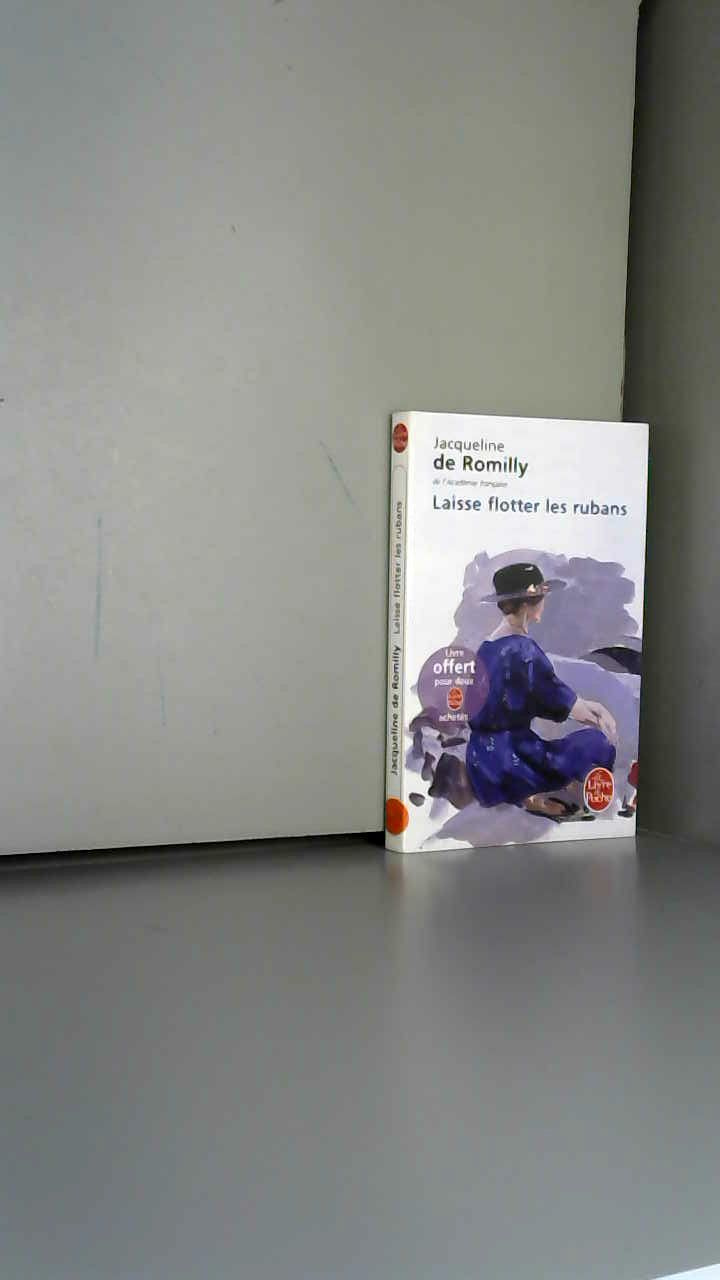book: (360, 380, 719, 907)
